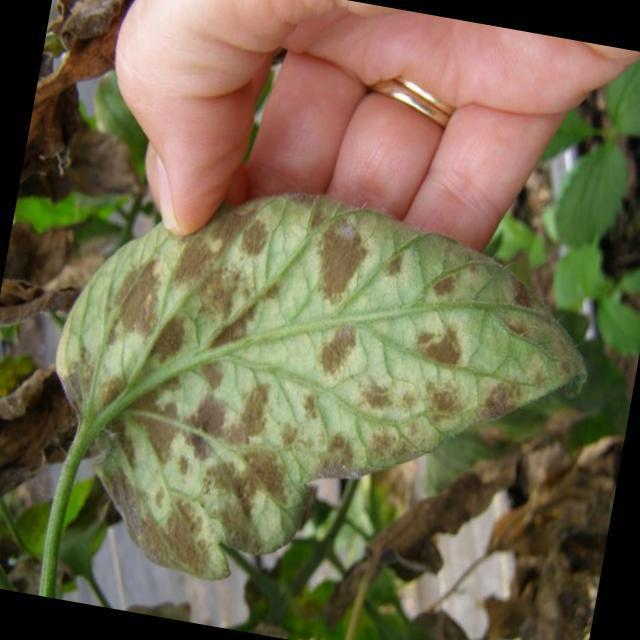Mosaic Virus: (36, 166, 590, 624)
